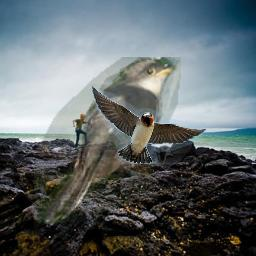Cuckoo: (34, 57, 181, 228)
Swallow: (90, 84, 206, 164)
